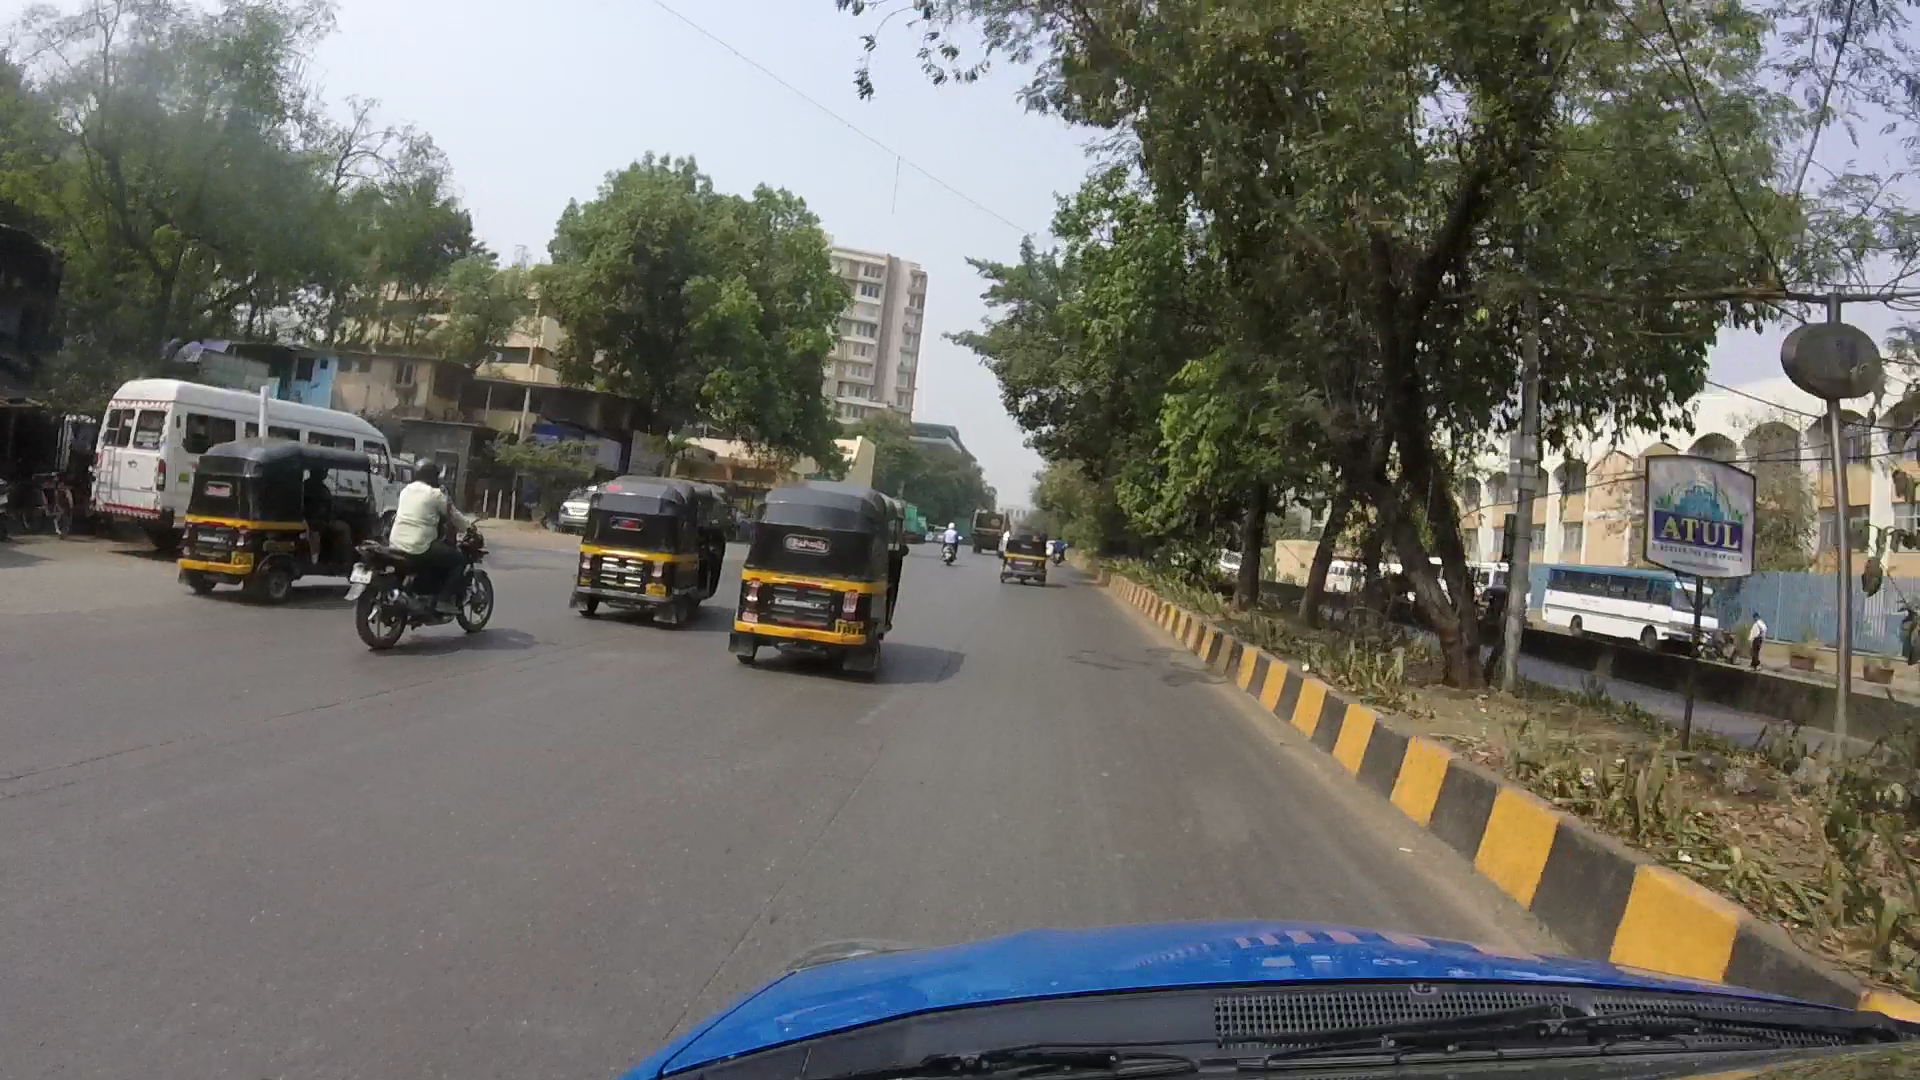bike/scooter: (351, 454, 504, 647)
bus: (83, 367, 371, 522)
rickshaw: (727, 460, 913, 673), (154, 431, 365, 607), (564, 454, 724, 625)
